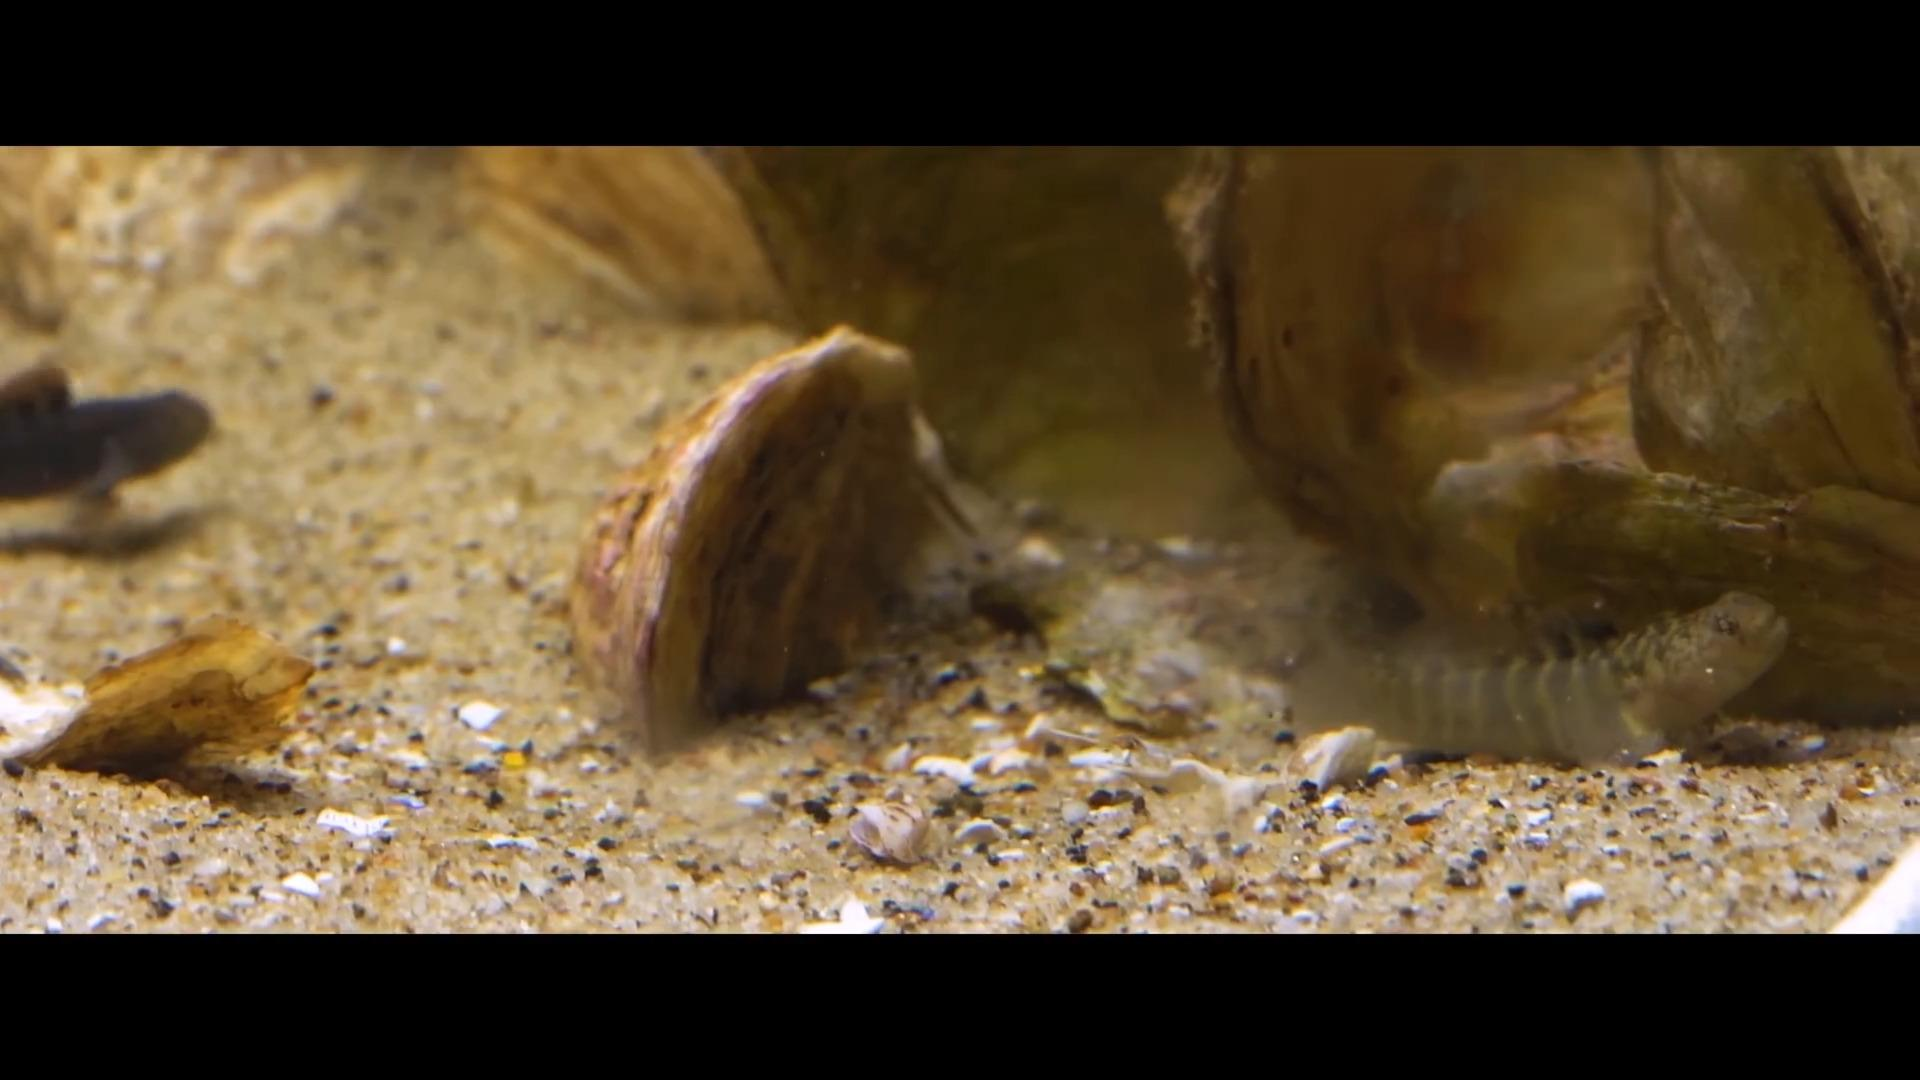Oyster: (1185, 142, 1917, 720), (715, 141, 1287, 546), (588, 327, 975, 749)
